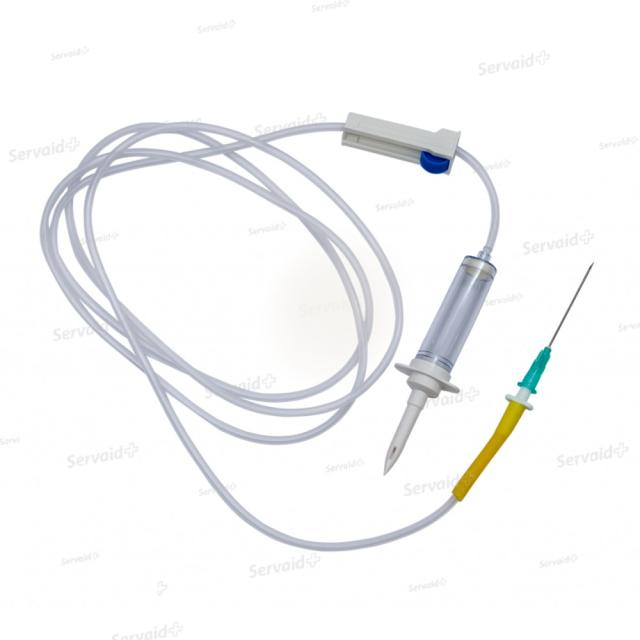B3: (31, 101, 603, 560)
